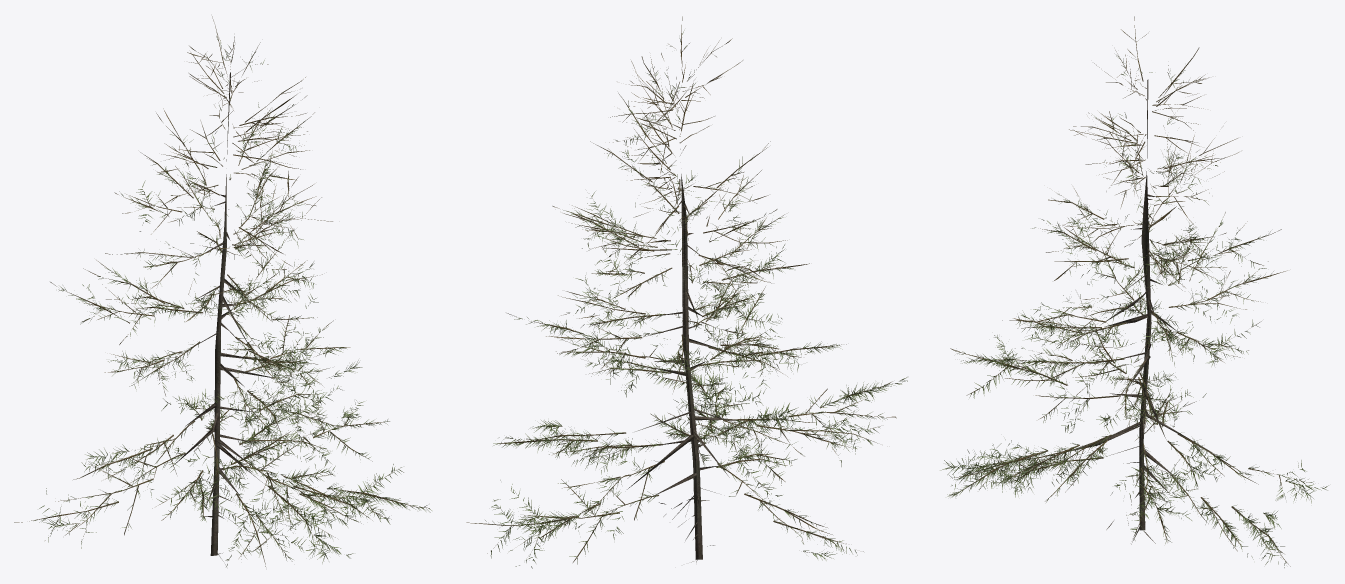
The model's file is fir-sapling-medium-c.glb.
The picture shows the model from 3 angles, left to right: view 1: azimuth 30°, elevation 25°; view 2: azimuth 150°, elevation 25°; view 3: azimuth 270°, elevation 25°; orthographic projection. The views are drawn at different scales.
Visible parts, largest first — view 1: fir_sapling_medium_c_LOD0; view 2: fir_sapling_medium_c_LOD0; view 3: fir_sapling_medium_c_LOD0.
Boxes of the visible parts, x1,y1,x2,y2 form: fir_sapling_medium_c_LOD0: (14, 16, 431, 566); fir_sapling_medium_c_LOD0: (466, 16, 907, 568); fir_sapling_medium_c_LOD0: (940, 16, 1328, 567).
Size of the model in its own units: 4.18 by 5.75 by 3.98.
3 materials, 3 textured.
